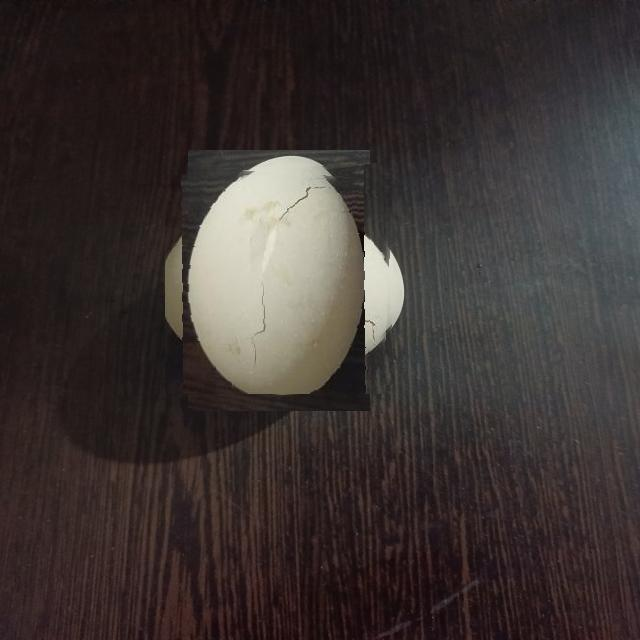biodegradable: (165, 166, 393, 394)
